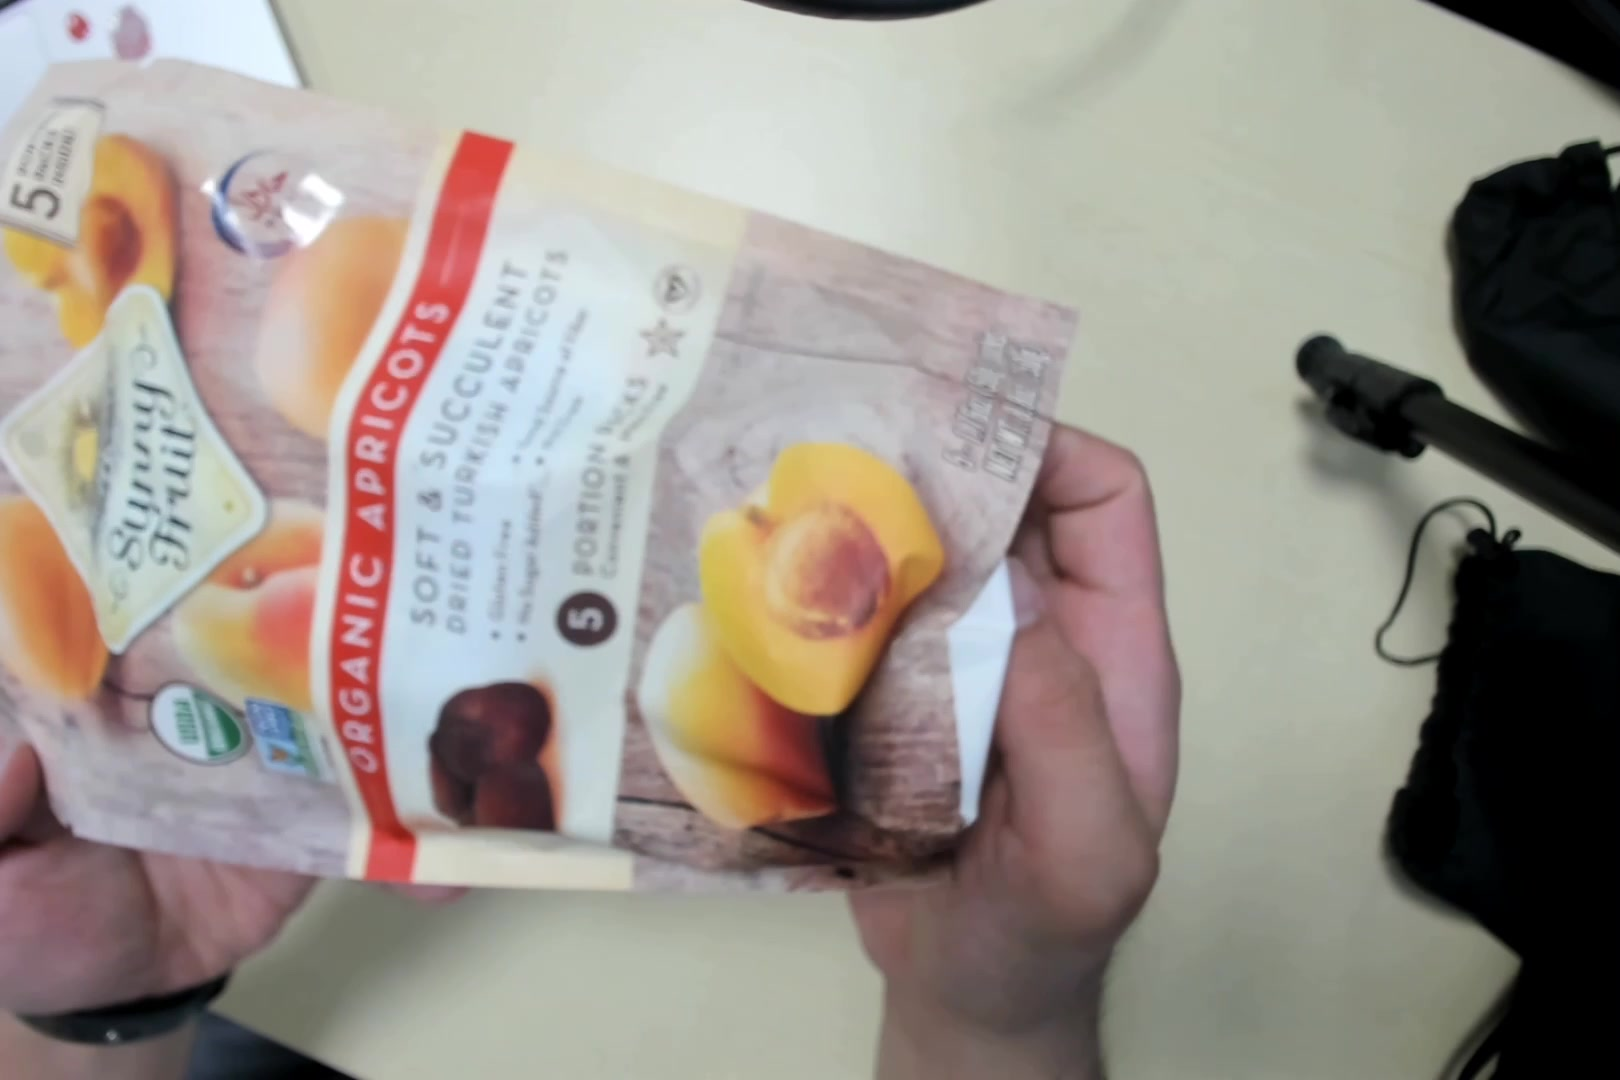DriedFood_0-99g_Halal_NonHealthy: (1, 81, 1076, 892)
